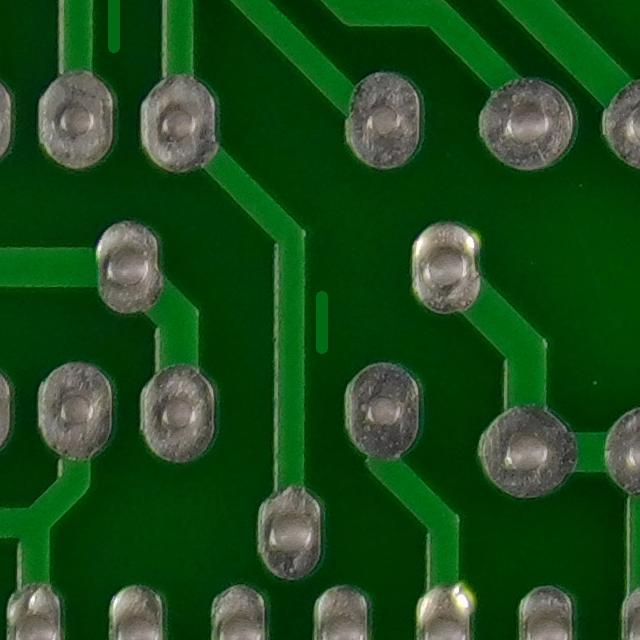spurious_copper: (297, 272, 343, 369)
